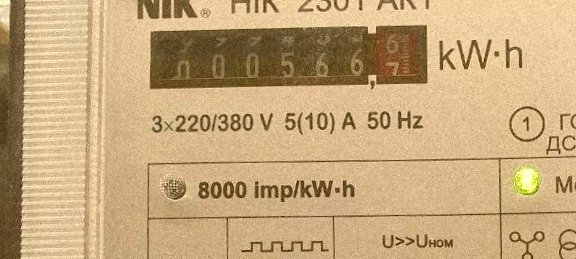0: (242, 49, 261, 79), (208, 49, 226, 79), (173, 55, 192, 79)
5: (277, 48, 296, 78)
6: (346, 45, 366, 76), (310, 49, 330, 77), (384, 31, 401, 56)
7: (384, 59, 400, 77)
9: (176, 33, 194, 54)
screen: (139, 15, 434, 99)
